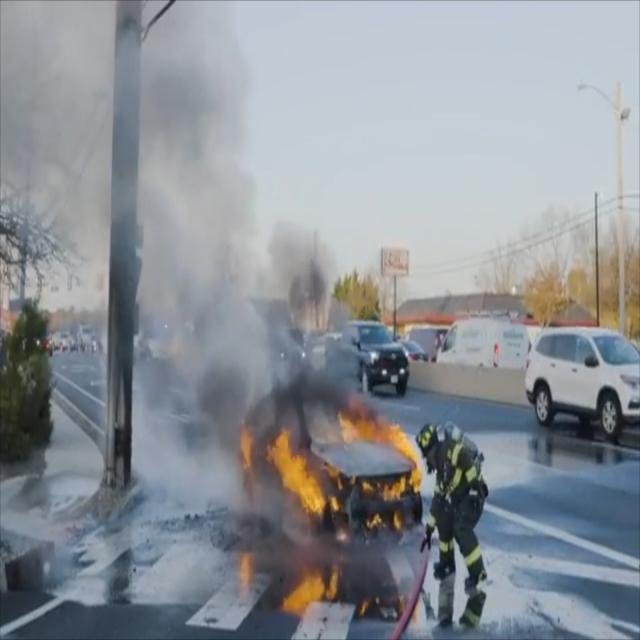fire: (238, 368, 423, 534), (273, 568, 408, 614)
